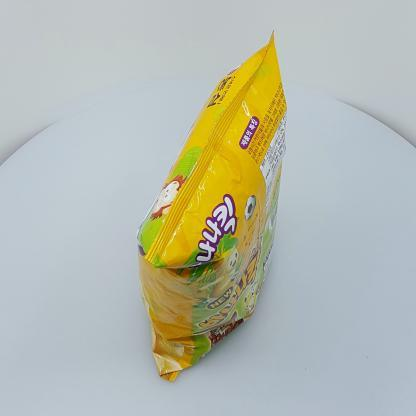Plastic Packaging: (117, 29, 299, 391)
